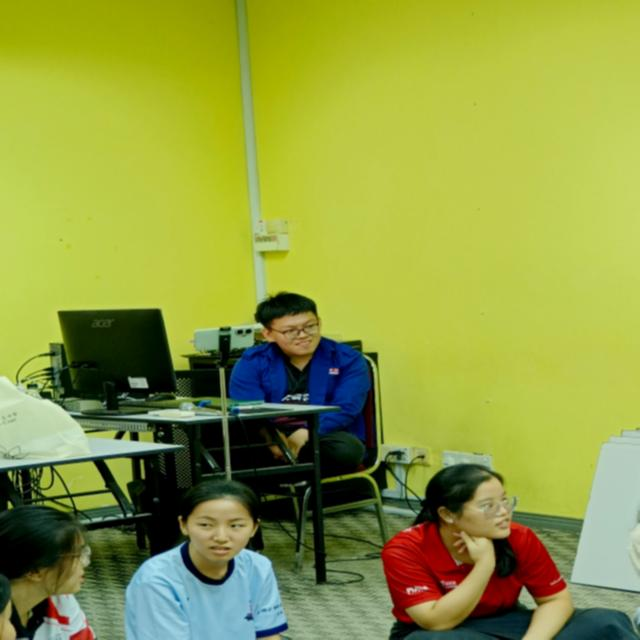person_with_labcoat: (230, 292, 370, 477)
person_without_labcoat: (381, 464, 633, 640), (125, 482, 287, 640), (0, 505, 95, 640)
